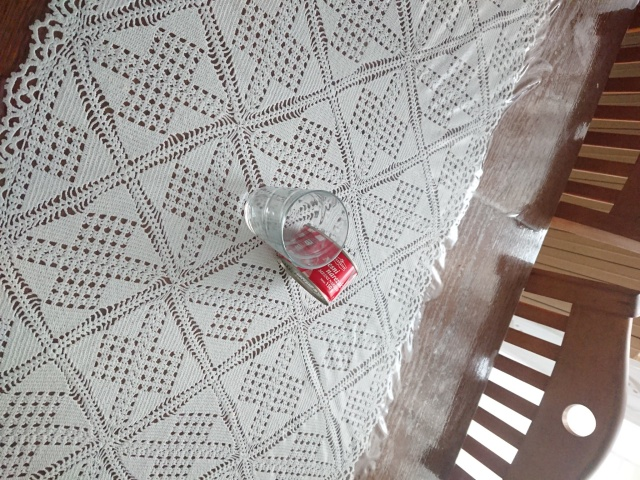Podravka Luncheon Meat 150g: (274, 222, 361, 307)
